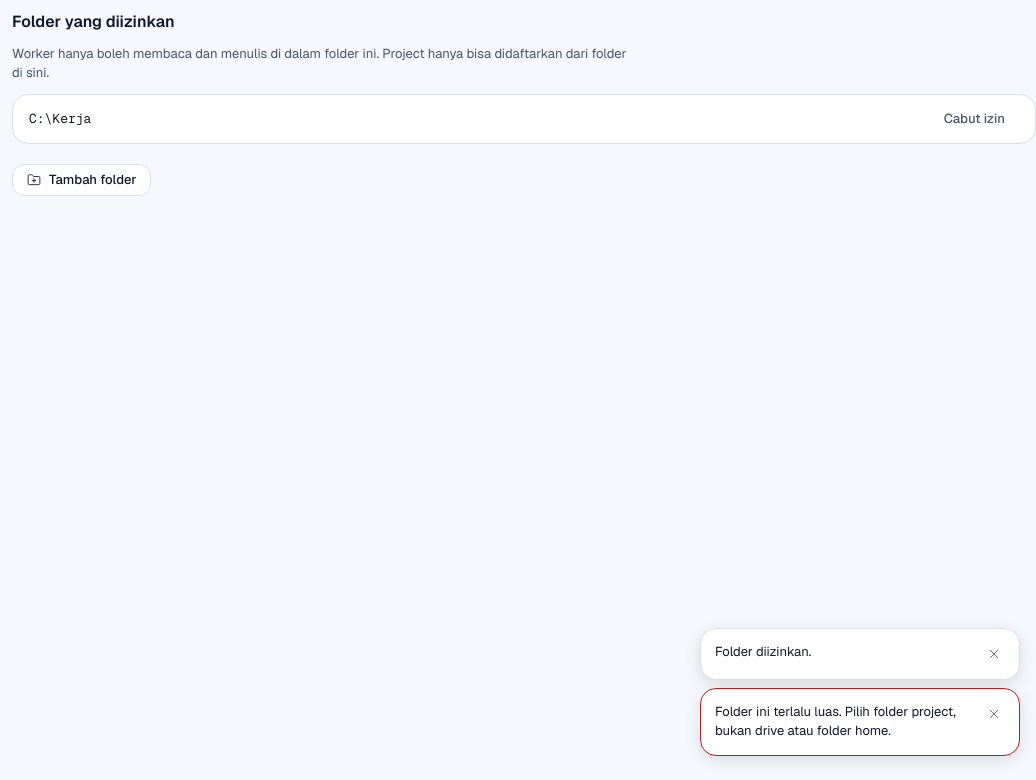
Test: AllowedFolders › mencabut izin folder
The image size is (1036, 780).
Click the button "Cabut izin".
click(974, 120)  # box [930,104,1019,136]
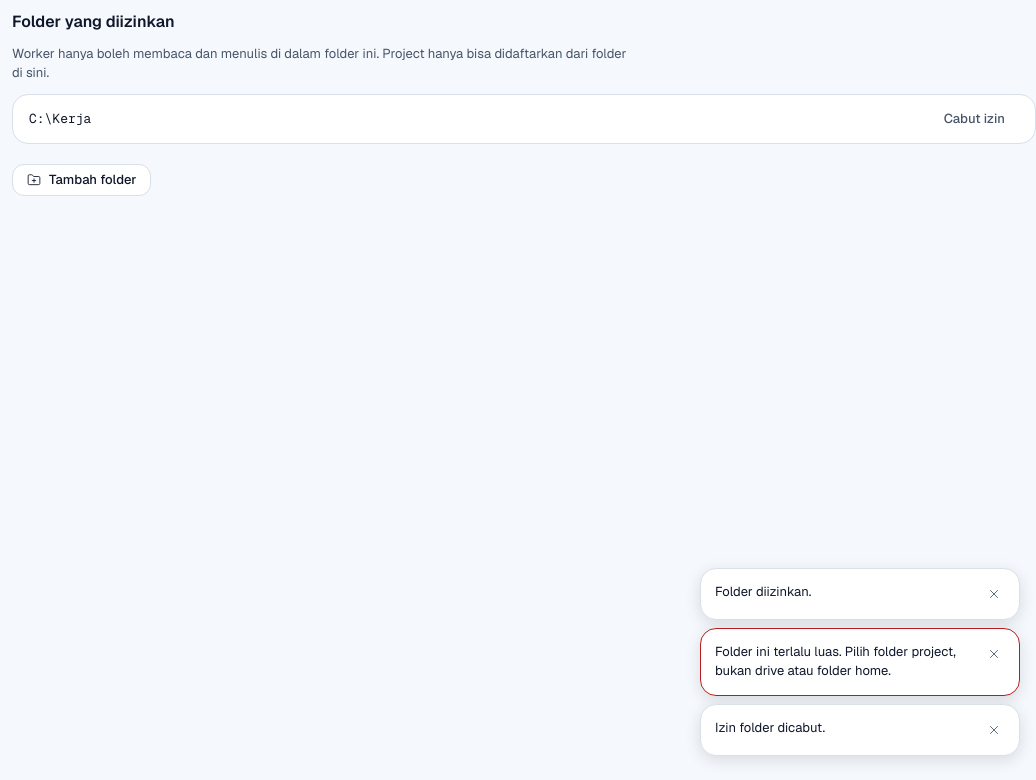
Result: the text "Izin folder dicabut." is shown at [715,719,825,736]
